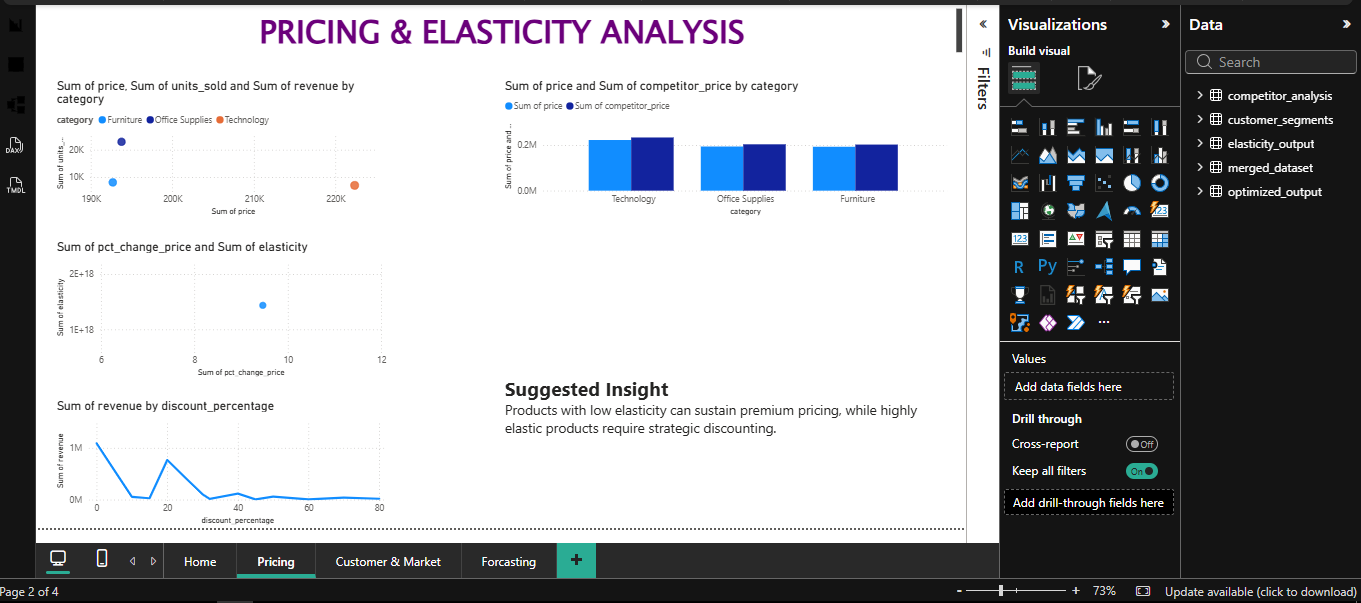

The dashboard page shown, as its layout file describes it:
{"tool":"powerbi","page":{"name":"Pricing","canvas":[1280,720],"ordinal":1},"visuals":[{"type":"textbox","box":[9.6,0,1270.4,72.9],"z":0},{"type":"scatterChart","fields":{"X":["Sum(elasticity_output.price)"],"Y":["Sum(elasticity_output.units_sold)"],"Size":["Sum(elasticity_output.revenue)"],"Series":["competitor_analysis.category"]},"box":[23.4,100.5,463.8,194.1],"z":1000},{"type":"scatterChart","fields":{"X":["Sum(elasticity_output.pct_change_price)"],"Y":["Sum(elasticity_output.elasticity)"]},"box":[23.4,322.1,463.8,194.1],"z":2000},{"type":"lineChart","fields":{"Category":["elasticity_output.discount_percentage"],"Y":["Sum(elasticity_output.revenue)"]},"box":[23.4,540.9,463.8,178.9],"z":3000},{"type":"clusteredColumnChart","fields":{"Category":["competitor_analysis.category"],"Y":["Sum(elasticity_output.price)","Sum(elasticity_output.competitor_price)"]},"box":[640,100.5,619.4,194.1],"z":4000},{"type":"textbox","box":[640,503.7,619.4,194.1],"z":5000}]}

Visuals, with their boxes on the page's 1280x720 design canvas (x1, y1, x2, y2). These are canvas units, not pixel positions in the 1361x603 screenshot, which may show the page scaled, cropped or inside an application window:
textbox: (10,0,1280,73)
scatterChart - Sum(elasticity_output.price) x Sum(elasticity_output.units_sold): (23,100,487,295)
scatterChart - Sum(elasticity_output.pct_change_price) x Sum(elasticity_output.elasticity): (23,322,487,516)
lineChart - elasticity_output.discount_percentage x Sum(elasticity_output.revenue): (23,541,487,720)
clusteredColumnChart - competitor_analysis.category x Sum(elasticity_output.price): (640,100,1259,295)
textbox: (640,504,1259,698)
